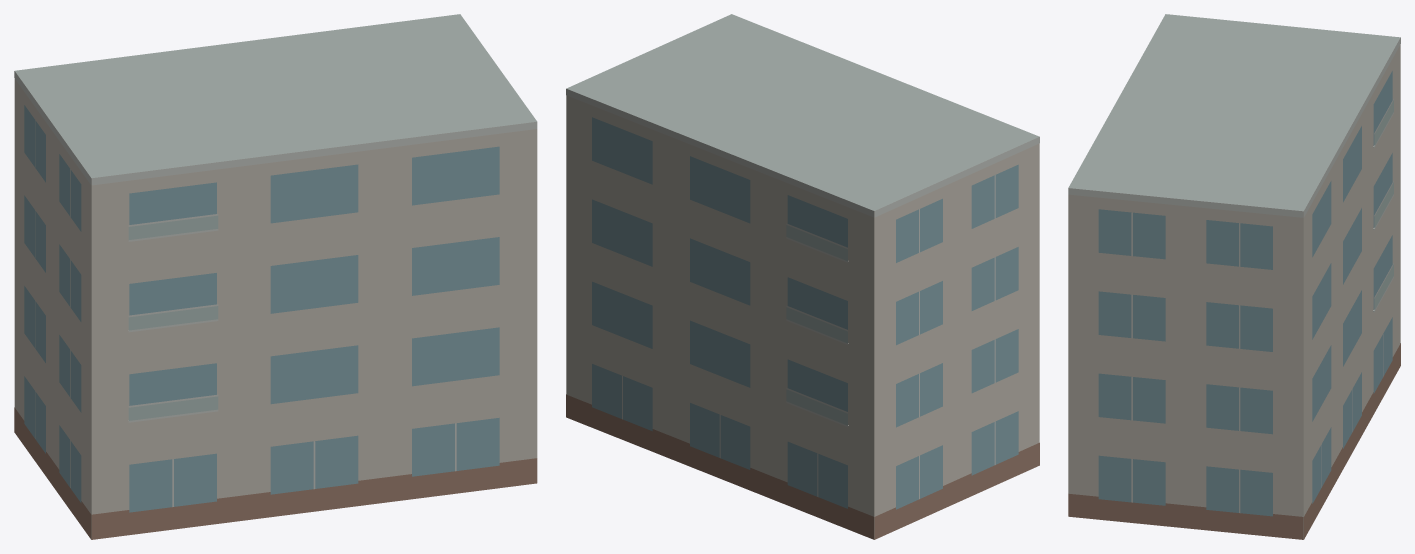
Rendered from survey-upis-32956252.glb.
The picture shows the model from 3 angles, left to right: view 1: azimuth 30°, elevation 25°; view 2: azimuth 150°, elevation 25°; view 3: azimuth 270°, elevation 25°; orthographic projection. The views are drawn at different scales.
Parts seen in each view (by area): view 1: survey-upis-32956252.tmp; view 2: survey-upis-32956252.tmp; view 3: survey-upis-32956252.tmp.
Boxes of the visible parts, x1,y1,x2,y2 form: survey-upis-32956252.tmp: (14,14,537,539); survey-upis-32956252.tmp: (566,14,1039,539); survey-upis-32956252.tmp: (1068,14,1400,539).
Bounding box in the file's own units: 15.72 × 12.2 × 11.2.
